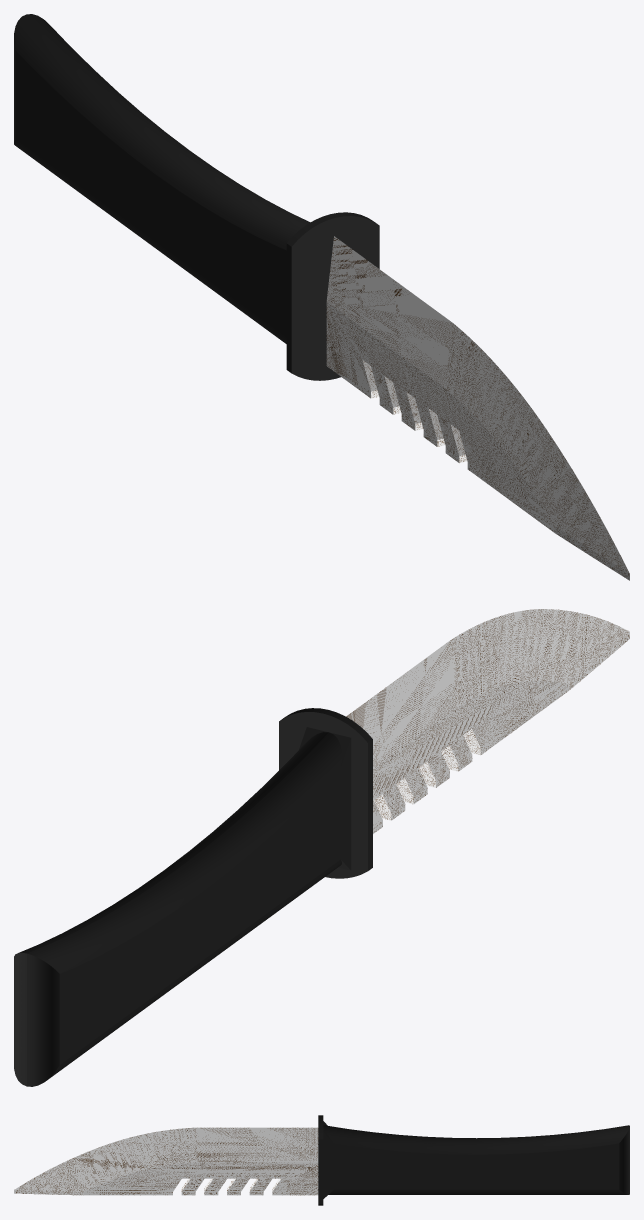
The model's file is model_align.obj.
3 views of the same model, one above another, from view 1: azimuth 30°, elevation 25°; view 2: azimuth 150°, elevation 25°; view 3: azimuth 270°, elevation 25° (orthographic). The views are drawn at different scales.
Parts seen in each view (by area): view 1: mesh2_mesh2-geometry, mesh1_mesh1-geometry, mesh5_mesh5-geometry; view 2: mesh2_mesh2-geometry, mesh1_mesh1-geometry, mesh5_mesh5-geometry; view 3: mesh2_mesh2-geometry, mesh1_mesh1-geometry, mesh5_mesh5-geometry.
Part boxes in pixels (bbox=[...]): mesh2_mesh2-geometry: bbox=[14, 14, 310, 343]; mesh1_mesh1-geometry: bbox=[326, 236, 629, 580]; mesh5_mesh5-geometry: bbox=[286, 212, 379, 380]; mesh2_mesh2-geometry: bbox=[14, 727, 351, 1086]; mesh1_mesh1-geometry: bbox=[346, 609, 629, 833]; mesh5_mesh5-geometry: bbox=[279, 708, 372, 878]; mesh2_mesh2-geometry: bbox=[323, 1121, 629, 1198]; mesh1_mesh1-geometry: bbox=[14, 1127, 318, 1195]; mesh5_mesh5-geometry: bbox=[318, 1115, 323, 1205].
Bounding box in the file's own units: 0.0189 × 0.033 × 0.2228.
